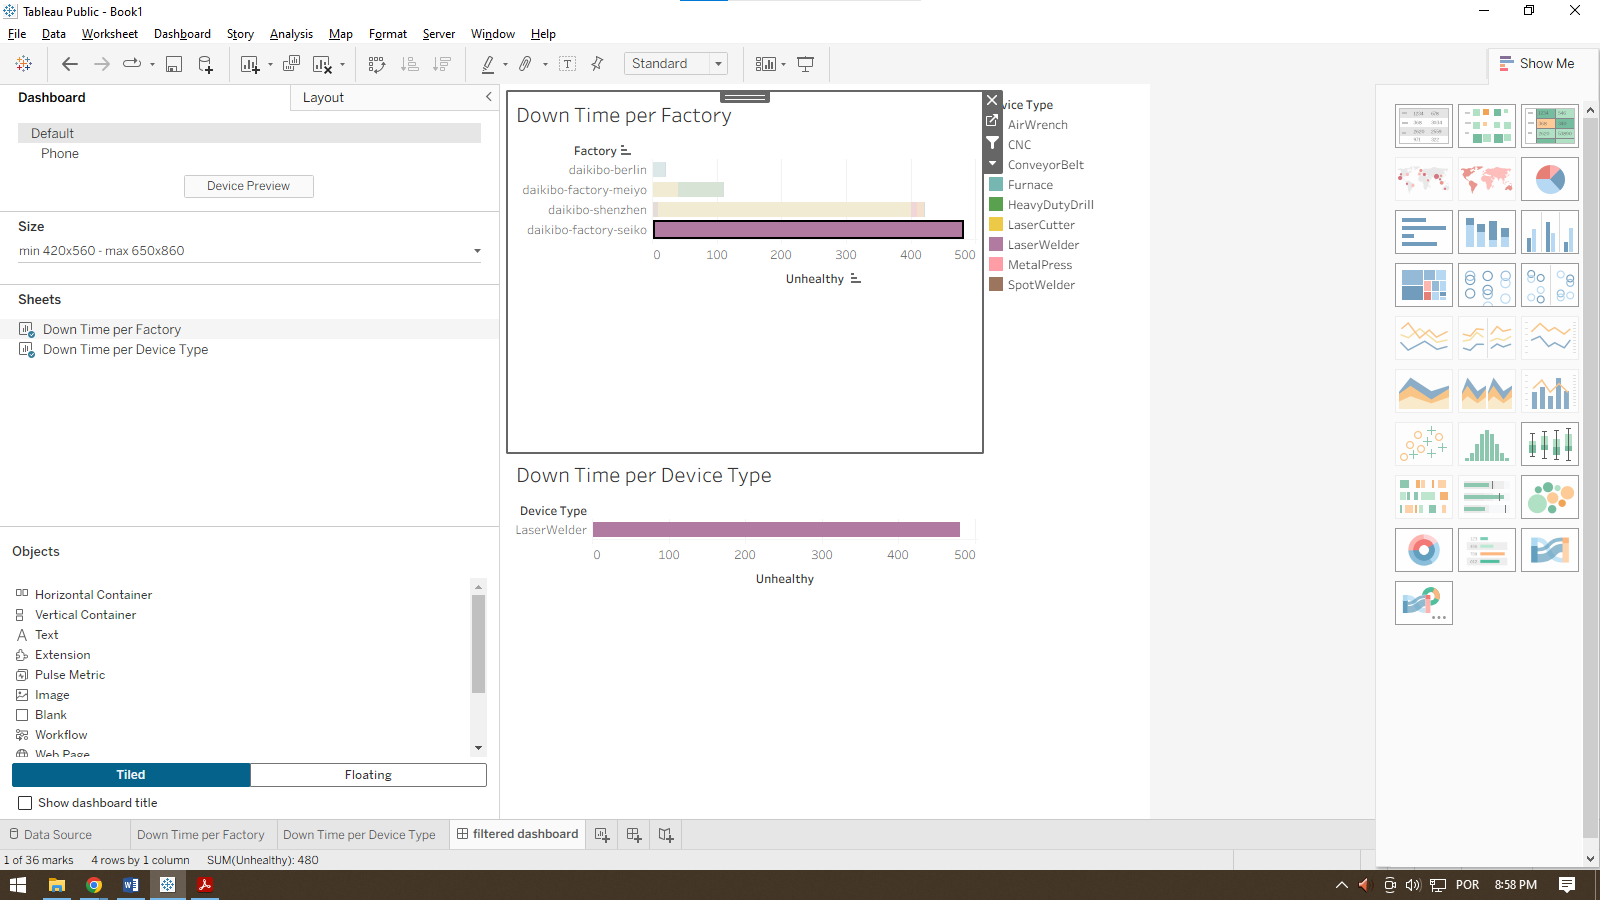

The dashboard page shown, as its layout file describes it:
{"tool":"tableau","page":{"name":"filtered dashboard","canvas":[650,860],"ordinal":0},"visuals":[{"type":"worksheet","title":"Down Time per Factory","mark":"Automatic","rows":["factory"],"cols":["Calculation_0119581358678016"],"box":[12.4,9.8,377.6,420.2]},{"type":"legend","title":"Down Time per Factory","param":"[federated.03frs640mh6bfu1ccczyj06g4l5z].[none:deviceType:nk]","box":[390,9.8,247.6,253.1]},{"type":"worksheet","title":"Down Time per Device Type","mark":"Automatic","rows":["deviceType"],"cols":["Calculation_0119581358678016"],"box":[12.4,430,377.6,420.2]}]}

Visuals, with their boxes in screenshot pixels (x1, y1, x2, y2):
"Down Time per Factory" worksheet: bbox=(125, 31, 501, 449)
"Down Time per Factory" legend: bbox=(501, 31, 747, 283)
"Down Time per Device Type" worksheet: bbox=(125, 449, 501, 867)
